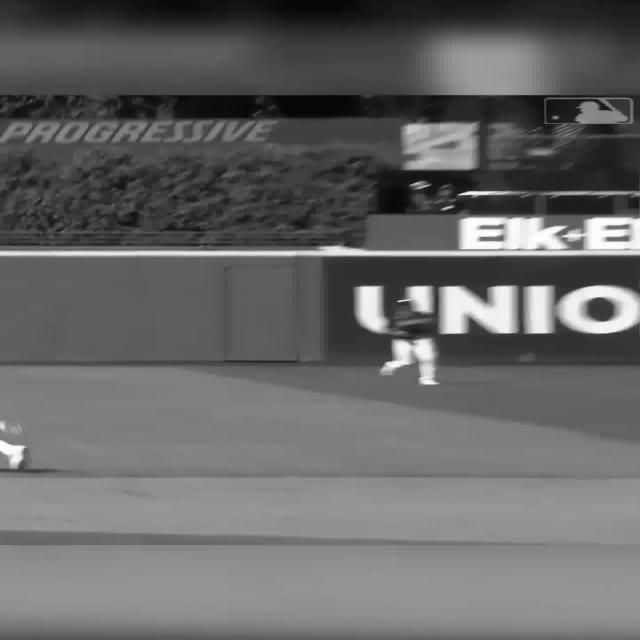shoe: (7, 446, 28, 470), (379, 364, 395, 376), (418, 378, 438, 386)
